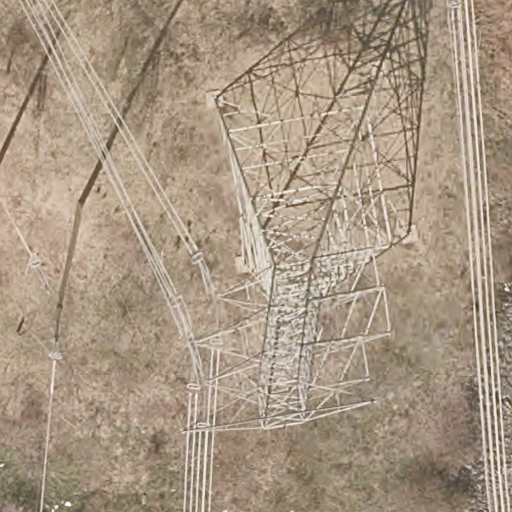TT: (182, 1, 434, 437)
